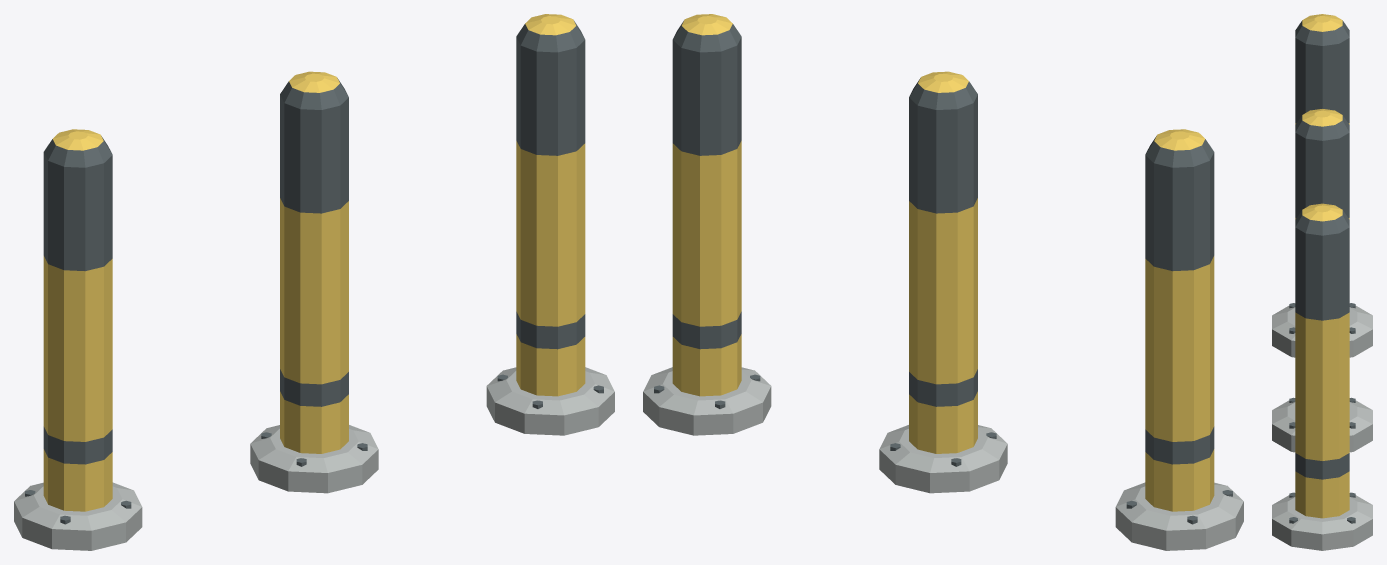
The model's file is Parking_Bollards.fbx.
The picture shows the model from 3 angles, left to right: view 1: azimuth 30°, elevation 25°; view 2: azimuth 150°, elevation 25°; view 3: azimuth 270°, elevation 25°; orthographic projection. The views are drawn at different scales.
Visible parts, largest first — view 1: Parking_Bollards__LPCXFER; view 2: Parking_Bollards__LPCXFER; view 3: Parking_Bollards__LPCXFER.
Part boxes in pixels (x1=…): Parking_Bollards__LPCXFER: x1=14, y1=14, x2=614, y2=550; Parking_Bollards__LPCXFER: x1=643, y1=14, x2=1243, y2=550; Parking_Bollards__LPCXFER: x1=1272, y1=14, x2=1372, y2=550.
Size of the model in its own units: 136 by 86.5 by 24.73.
